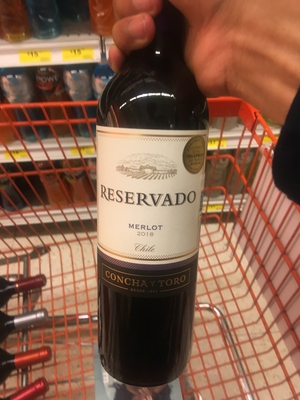reservado merlot: (94, 21, 213, 392)
